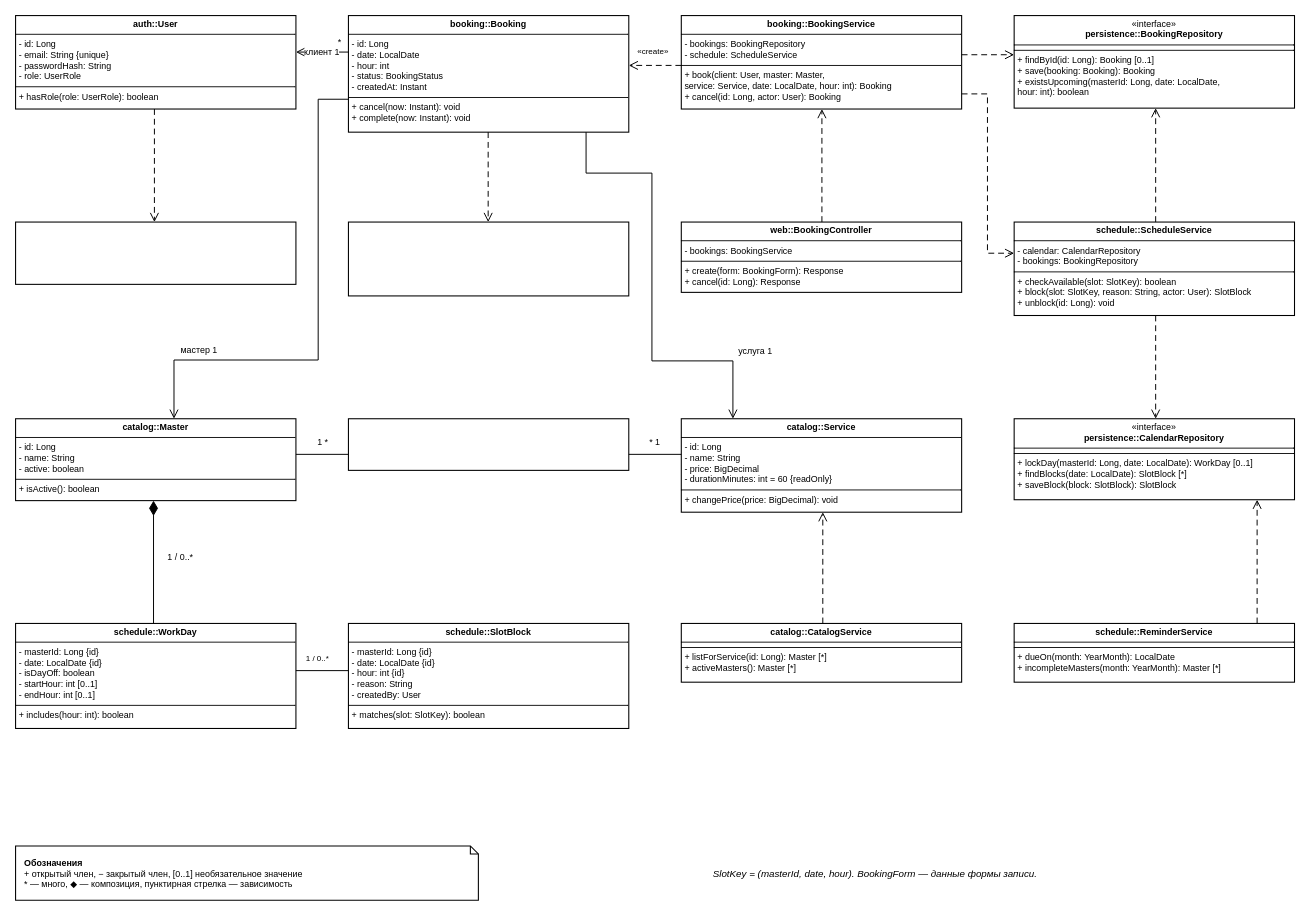
Image size: 1311x917. Some labels were removed from this diagram. The box of each missing label's shape, as (x1, y1, x2, y2) in pixels:
catalog::MasterService - masterId: Long {id} - serviceId: Long {id}: (347, 418, 629, 470)
«enumeration» auth::UserRole CLIENT ADMIN: (15, 221, 296, 284)
«enumeration» booking::BookingStatus UPCOMING CANCELLED COMPLETED: (347, 221, 629, 296)
